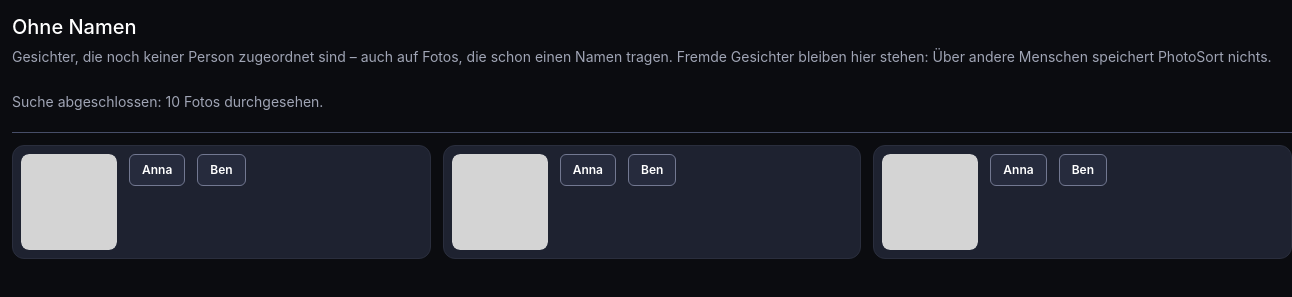
Test case: UnnamedFacesGroup - Zuordnen › ordnet mit einem Druck zu, nimmt die Karte heraus und fragt die Auflistung nicht neu an
Click the button with aria-label "Zuordnen: Anna" at {"x": 588, "y": 170}, box 560,154 -> 616,186
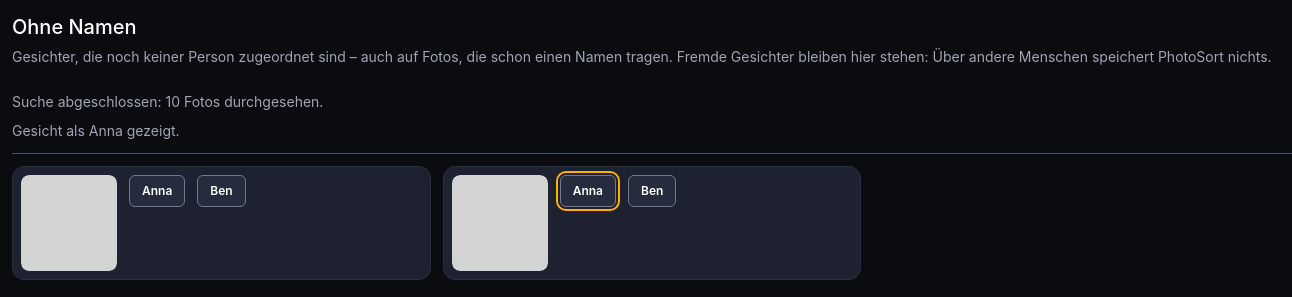
Now the message reads "Gesicht als Anna gezeigt.", box 12,122 -> 180,139
